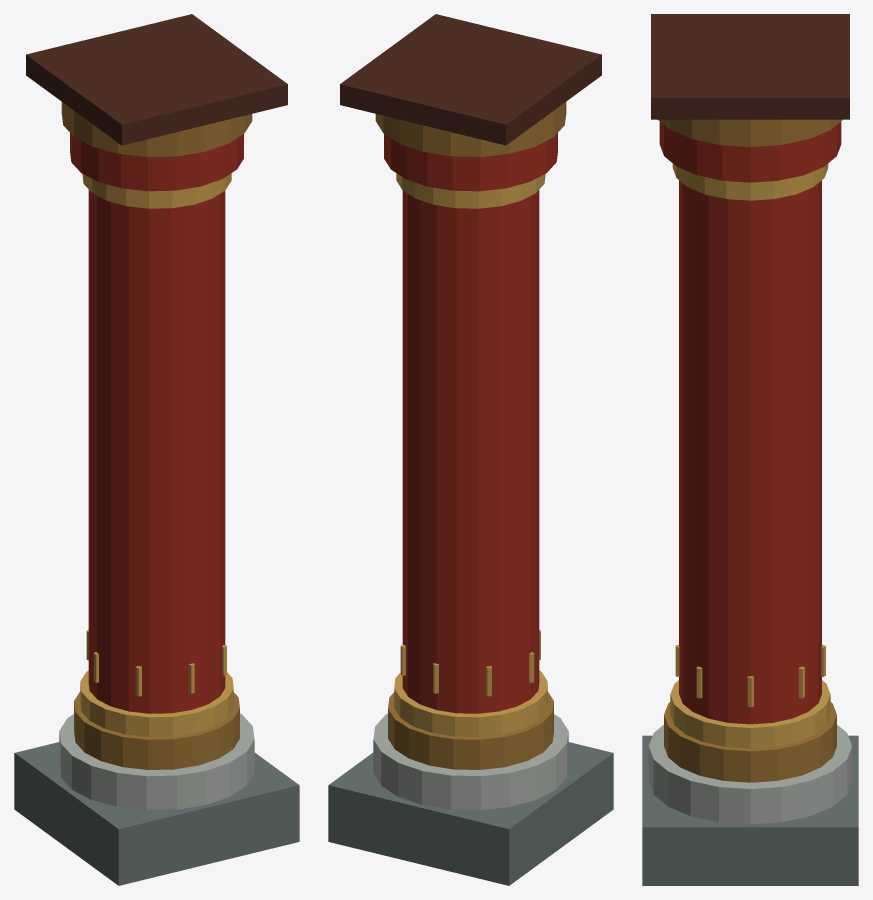
The model's file is hongzhu4.glb.
The picture shows the model from 3 angles, left to right: view 1: azimuth 30°, elevation 25°; view 2: azimuth 150°, elevation 25°; view 3: azimuth 270°, elevation 25°; orthographic projection. The views are drawn at different scales.
Parts seen in each view (by area): view 1: hongzhu4; view 2: hongzhu4; view 3: hongzhu4.
Boxes of the visible parts, left/top/right/bottom form: hongzhu4: left=14, top=14, right=299, bottom=885; hongzhu4: left=328, top=14, right=613, bottom=885; hongzhu4: left=642, top=14, right=858, bottom=885.
Size of the model in its own units: 1 by 4 by 1.
